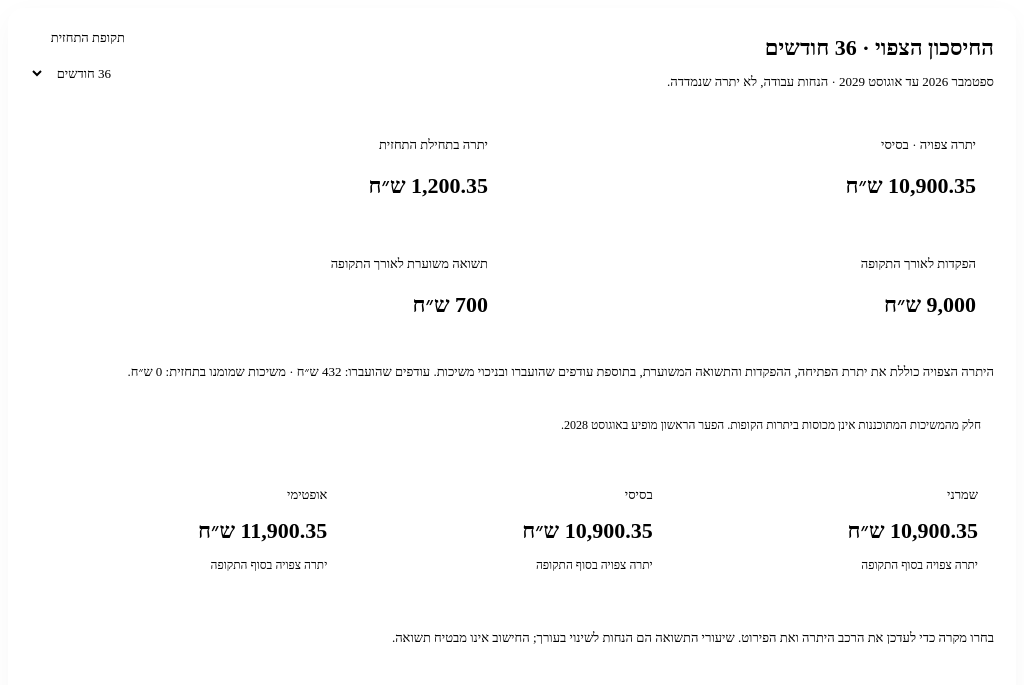
Forecast results › shows a shortfall only inside the selected horizon
Expected: the message shows "אוגוסט 2028", [564,418,622,432]
Select "12 חודשים" in the dropdown named "אופק תחזית" at (78, 74), box [30,52,125,95]
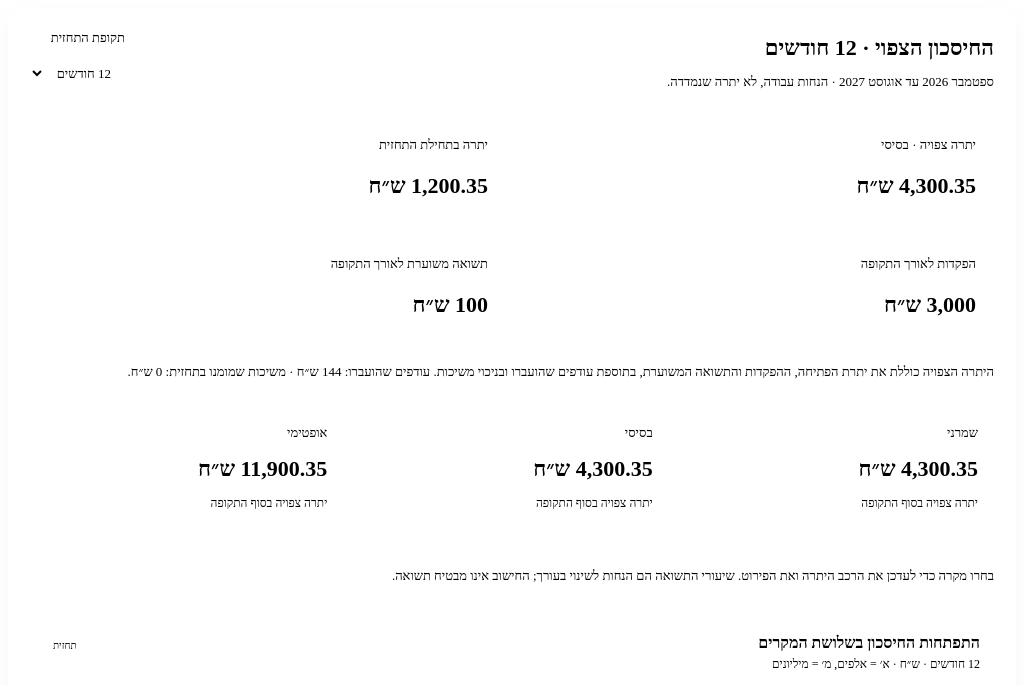
Expected: the message is gone
